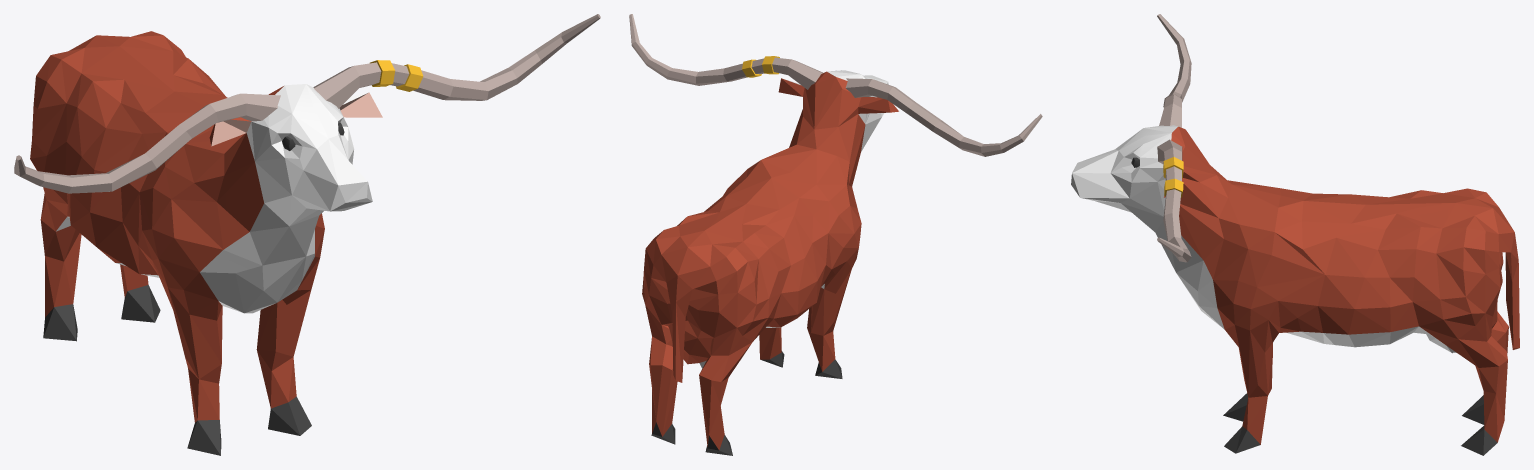
File: animal_007.fbx
The picture shows the model from 3 angles, left to right: view 1: azimuth 30°, elevation 25°; view 2: azimuth 150°, elevation 25°; view 3: azimuth 270°, elevation 25°; orthographic projection. The views are drawn at different scales.
Parts seen in each view (by area): view 1: animal.007; view 2: animal.007; view 3: animal.007.
Part boxes in pixels (bbox=[...]): animal.007: bbox=[14, 14, 600, 455]; animal.007: bbox=[629, 14, 1042, 455]; animal.007: bbox=[1071, 14, 1519, 455].
Size of the model in its own units: 798 by 511 by 670.
1 material, 1 textured.
